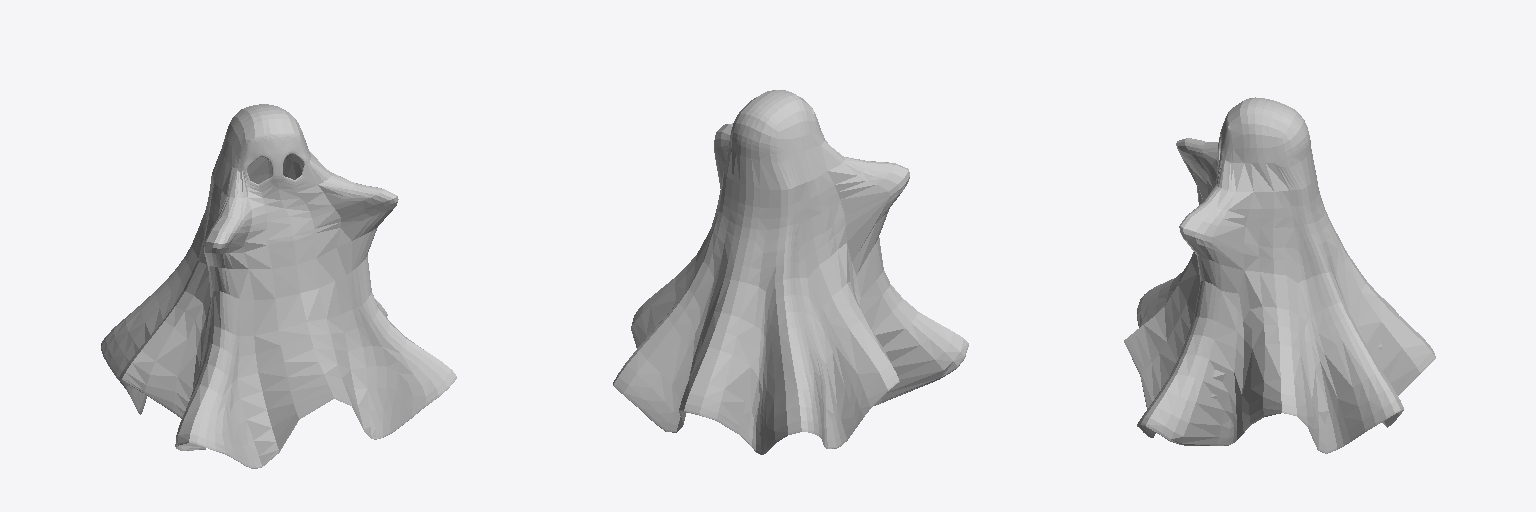
3 views of the same model, side by side, from view 1: azimuth 30°, elevation 25°; view 2: azimuth 150°, elevation 25°; view 3: azimuth 270°, elevation 25° (orthographic).
Parts seen in each view (by area): view 1: youlinguu2:Group3 walk1; view 2: youlinguu2:Group3 walk1; view 3: youlinguu2:Group3 walk1.
Part boxes in pixels (x1,y1,x2,y2): youlinguu2:Group3 walk1: (101,104,456,468); youlinguu2:Group3 walk1: (613,90,968,454); youlinguu2:Group3 walk1: (1124,97,1435,453).
Size of the model in its own units: 36.8 by 39.2 by 36.22.